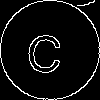C: (25, 25, 65, 74)
